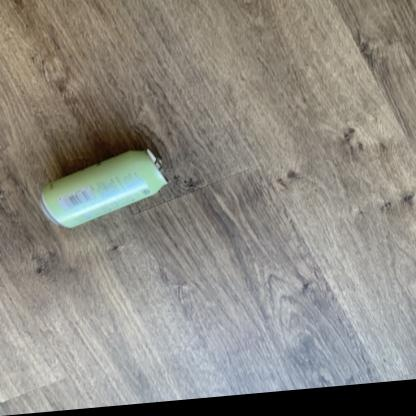trash: (42, 150, 166, 227)
